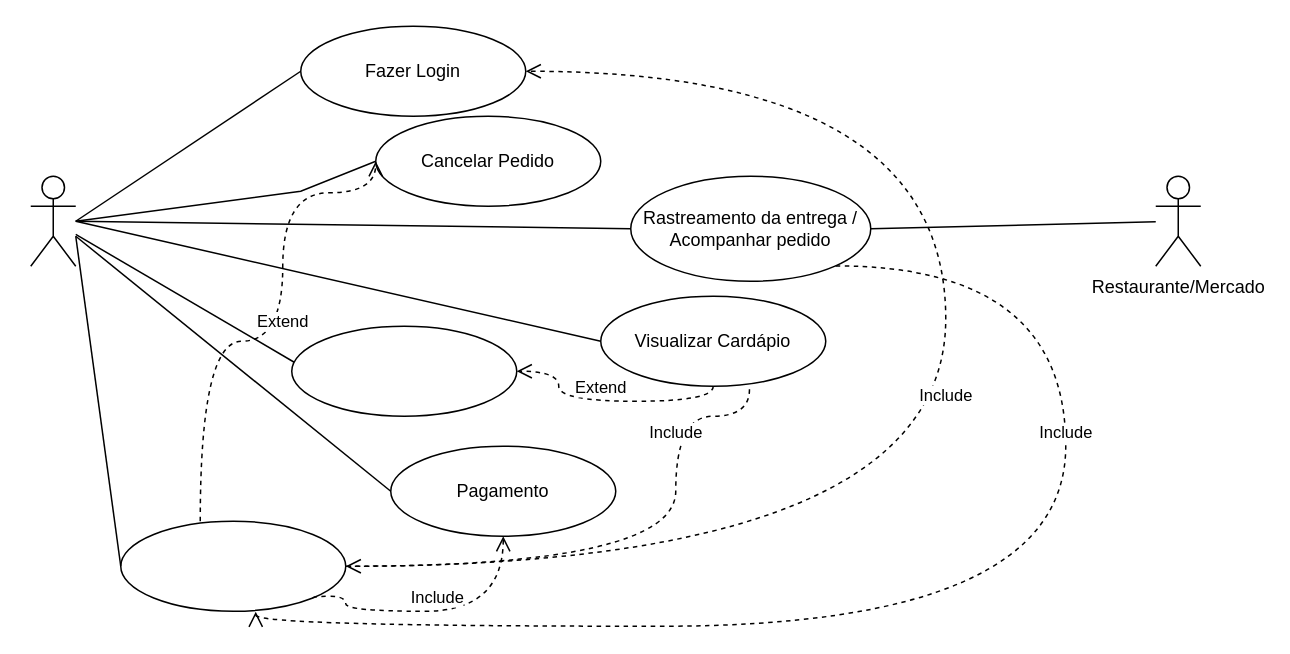
Image size: 1290x654. Some labels were removed from this diagram. The centre of each missing label's shape, as x and y in pixels:
"Buscar Restaurante/Mercado" belongs at (x=403, y=370).
"Cliente" belongs at (x=52, y=220).
"Fazer Pedido" belongs at (x=232, y=565).
